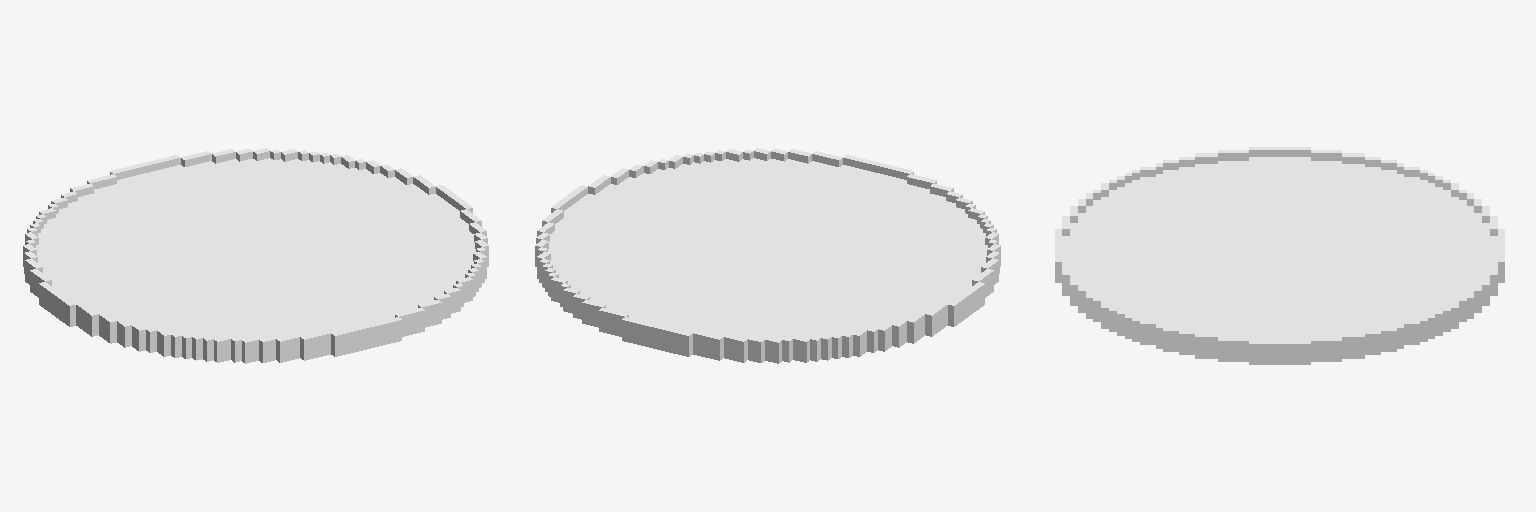
The model's file is babyexit.obj.
3 views of the same model, side by side, from view 1: azimuth 30°, elevation 25°; view 2: azimuth 150°, elevation 25°; view 3: azimuth 270°, elevation 25° (orthographic).
Visible parts, largest first — view 1: object 1; view 2: object 1; view 3: object 1.
Part boxes in pixels (x1,y1,x2,y2): object 1: (23,148,488,363); object 1: (535,148,1000,363); object 1: (1055,147,1504,364).
Size of the model in its own units: 6 by 0.3 by 5.8.